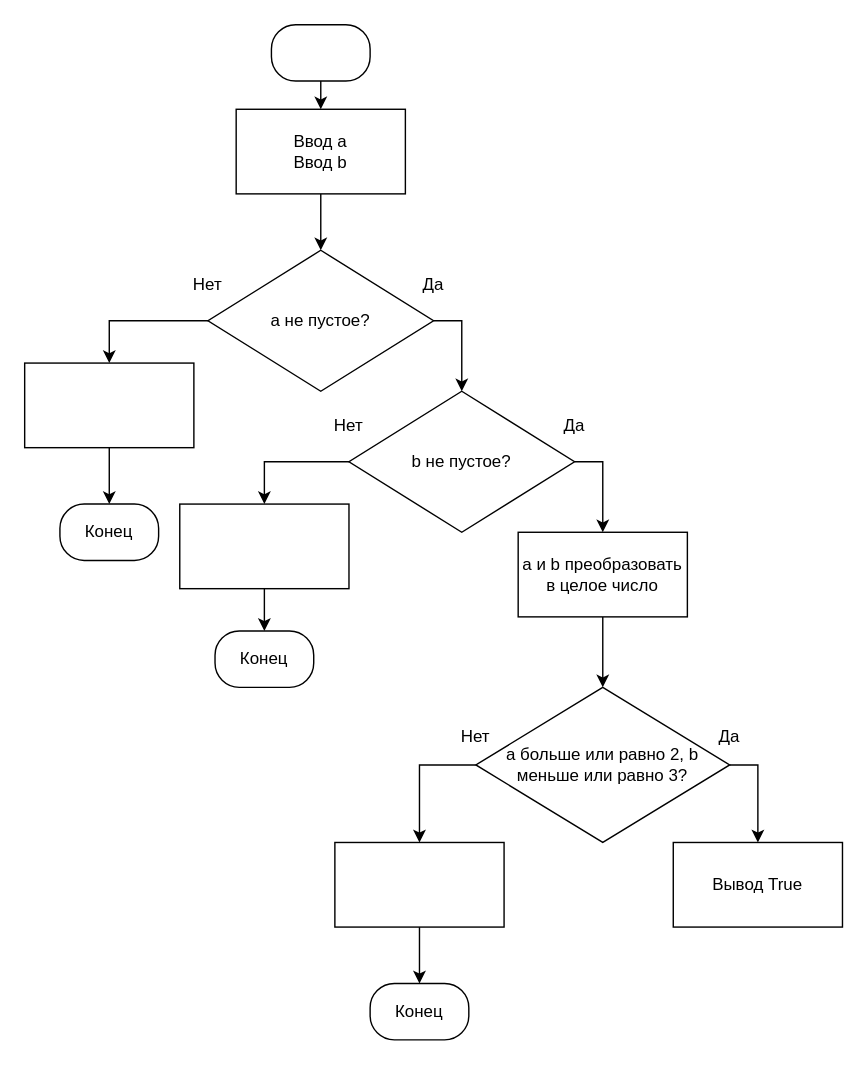
This 867x1076 diagram has some shape labels left out. Each missing label, with the centre of its shape:
Please type A: the point at 108,405
Please type B: the point at 263,546
Вывод False: the point at 418,884
Начало: the point at 320,52
